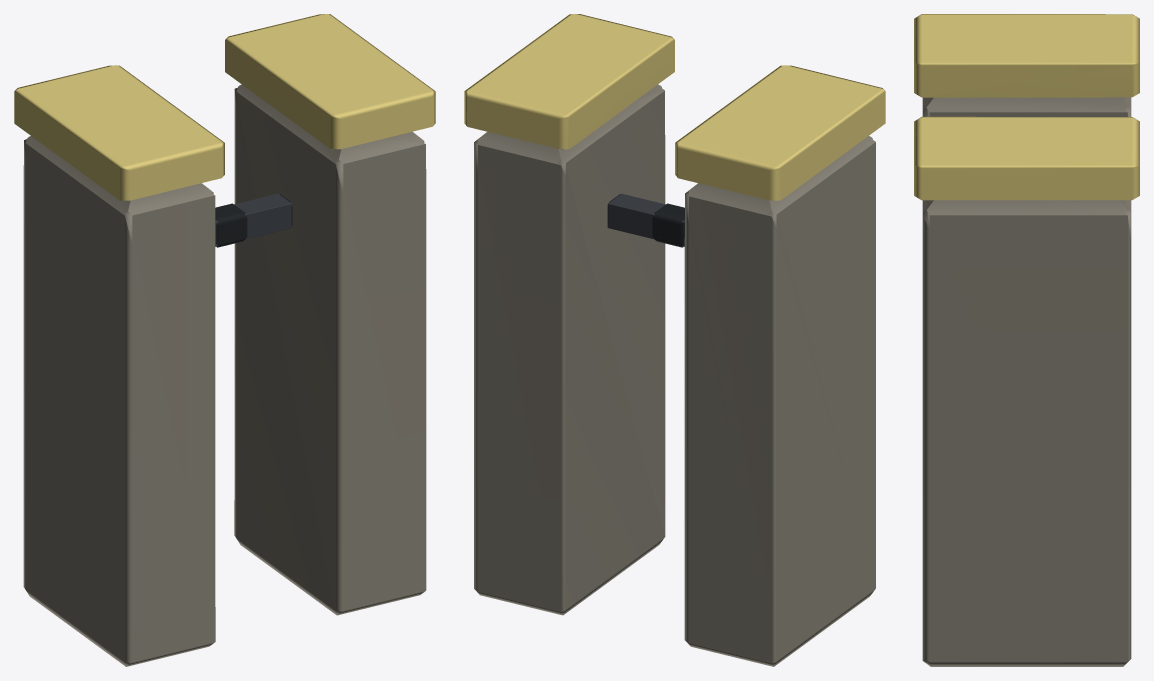
The model's file is gate.glb.
3 renders of one model, left to right at view 1: azimuth 30°, elevation 25°; view 2: azimuth 150°, elevation 25°; view 3: azimuth 270°, elevation 25°, orthographic.
Visible parts, largest first — view 1: Body; view 2: Body; view 3: Body.
Boxes of the visible parts, x1,y1,x2,y2 form: Body: (14, 14, 435, 666); Body: (464, 14, 885, 666); Body: (914, 14, 1139, 666).
Size of the model in its own units: 2.1 by 3.21 by 1.3.
